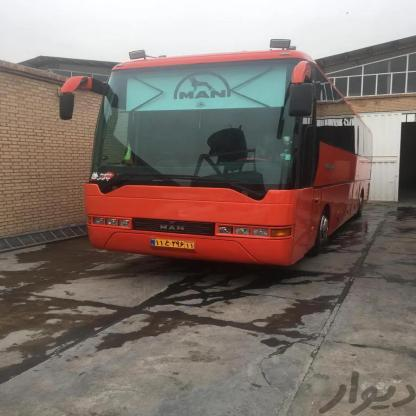Bus: (74, 51, 381, 276)
